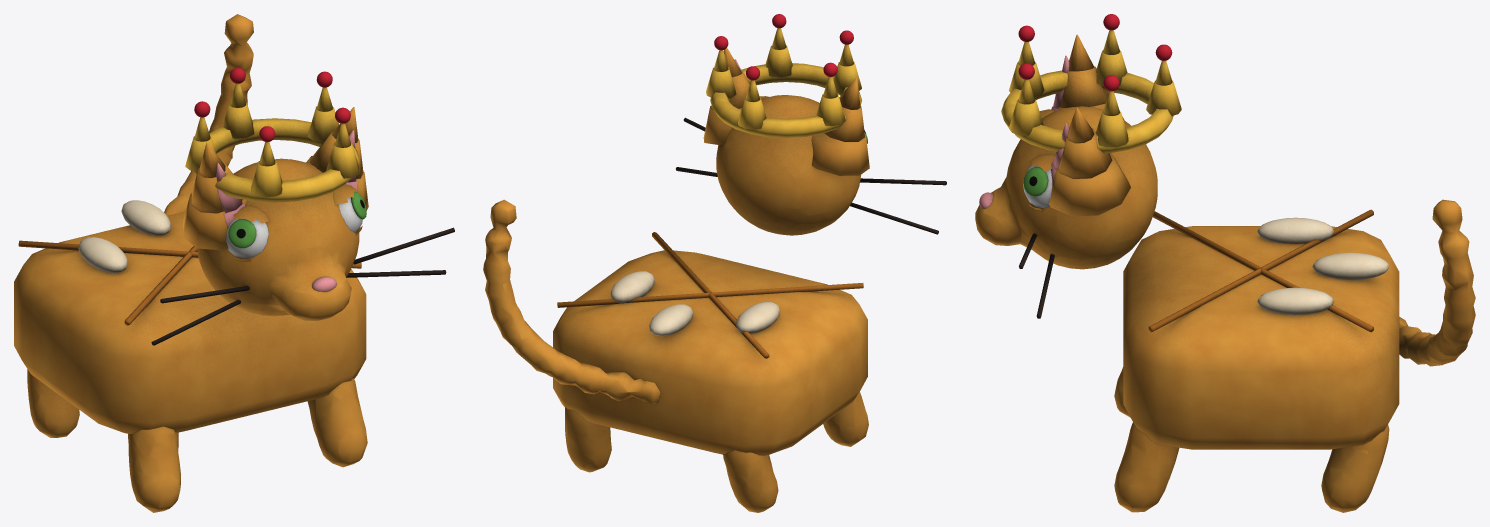
File: BasbousaCat.fbx
3 renders of one model, left to right at view 1: azimuth 30°, elevation 25°; view 2: azimuth 150°, elevation 25°; view 3: azimuth 270°, elevation 25°, orthographic. The views are drawn at different scales.
Visible parts, largest first — view 1: BasbousaCat; view 2: BasbousaCat; view 3: BasbousaCat.
Boxes of the visible parts, <box> form: BasbousaCat: <box>14,14,454,512</box>; BasbousaCat: <box>483,14,946,512</box>; BasbousaCat: <box>975,14,1475,512</box>.
Size of the model in its own units: 259 by 335 by 363.
Materials: 1 (1 with a texture image).
